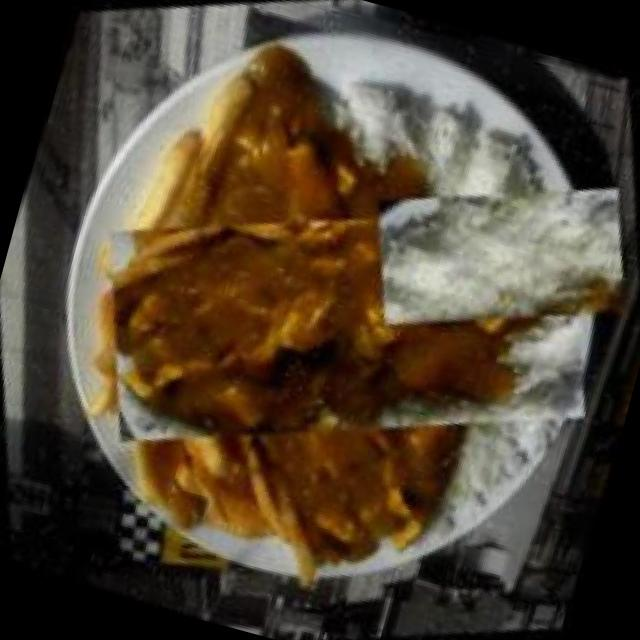curry: (74, 52, 623, 601)
rice: (353, 107, 640, 405)
